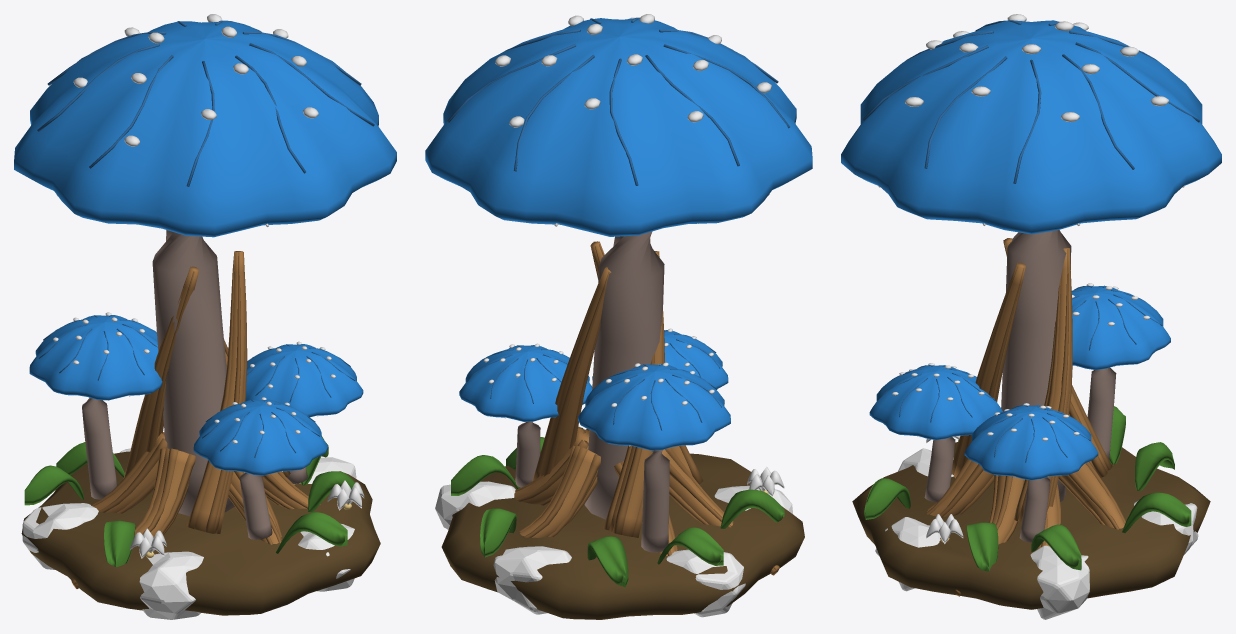
Rendered from mushroom-4.fbx.
3 renders of one model, left to right at view 1: azimuth 30°, elevation 25°; view 2: azimuth 150°, elevation 25°; view 3: azimuth 270°, elevation 25°, orthographic. The views are drawn at different scales.
Visible parts, largest first — view 1: Petals_PortalCap, Turret_PortalCap, mushroom-4_Organic, Turret_Bark, mushroom-4_Bark, mushroom-4_Stone, mushroom-4_PortalBamboo, Petals_Glow, mushroom-4_Petal, Turret_Glow; view 2: Petals_PortalCap, mushroom-4_Organic, Turret_PortalCap, Turret_Bark, mushroom-4_Bark, mushroom-4_Stone, mushroom-4_PortalBamboo, Petals_Glow, mushroom-4_Petal, Turret_Glow; view 3: Petals_PortalCap, Turret_PortalCap, mushroom-4_Organic, Turret_Bark, mushroom-4_PortalBamboo, mushroom-4_Bark, mushroom-4_Stone, Petals_Glow, Turret_Glow, mushroom-4_Petal.
Part boxes in pixels (x1,y1,x2,y2): Petals_PortalCap: (14,20,396,516); Turret_PortalCap: (29,315,363,539); mushroom-4_Organic: (21,451,380,615); Turret_Bark: (123,251,290,533); mushroom-4_Bark: (71,432,320,588); mushroom-4_Stone: (22,448,356,619); mushroom-4_PortalBamboo: (24,436,355,567); Petals_Glow: (57,14,318,227); mushroom-4_Petal: (130,480,364,558); Turret_Glow: (53,312,335,471); Petals_PortalCap: (425,17,812,519); mushroom-4_Organic: (441,453,804,619); Turret_PortalCap: (459,330,730,552); Turret_Bark: (532,241,703,537); mushroom-4_Bark: (514,427,779,575); mushroom-4_Stone: (435,481,793,617); mushroom-4_PortalBamboo: (451,437,784,587); Petals_Glow: (495,14,771,226); mushroom-4_Petal: (578,425,784,497); Turret_Glow: (483,328,714,446); Petals_PortalCap: (841,20,1221,501); Turret_PortalCap: (869,285,1170,542); mushroom-4_Organic: (852,442,1210,609); Turret_Bark: (951,238,1112,523); mushroom-4_PortalBamboo: (864,406,1191,571); mushroom-4_Bark: (926,458,1125,596); mushroom-4_Stone: (875,448,1198,619); Petals_Glow: (878,14,1184,225); Turret_Glow: (892,283,1156,477); mushroom-4_Petal: (926,436,963,543).
Size of the model in its own units: 86.71 by 133 by 87.85.
